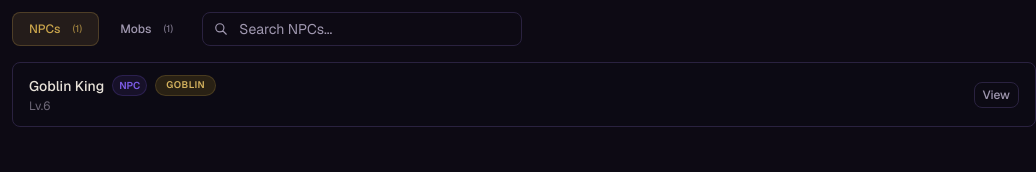
Test case: NpcsMobsSection › switches to Mobs tab when Mob button clicked
The image size is (1036, 172).
Expected: the text "Goblin King" is shown, [29,76,104,96]
Expected: the text "Goblin Scout" is not shown
Click Mobs tab
Click the button "Mobs (1)" at (147,29), box [103,12,190,46]
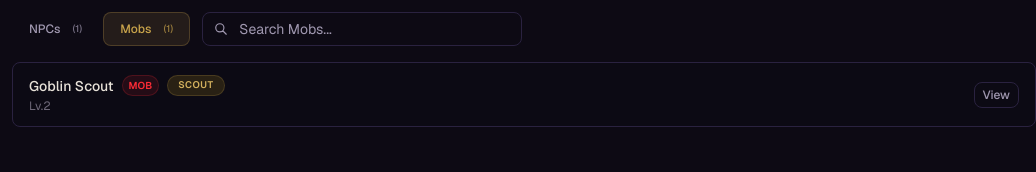
Now the text "Goblin Scout" is shown, box [29,76,114,96]
Now the text "Goblin King" is gone
